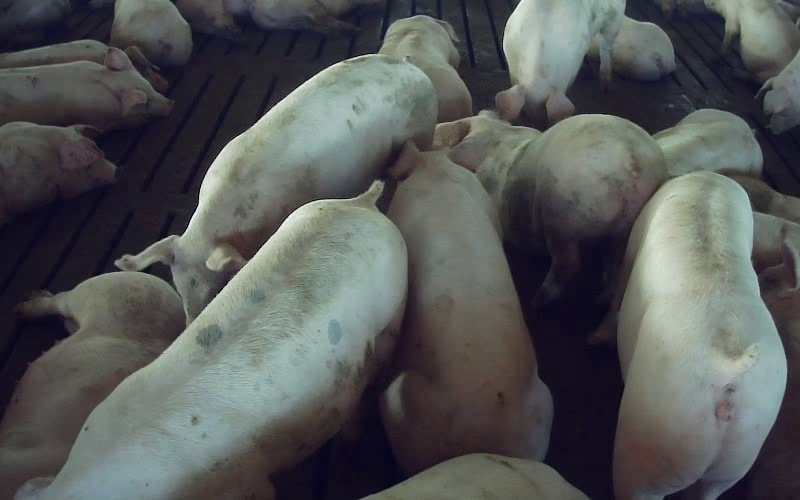pig: (18, 181, 406, 499), (116, 54, 437, 320), (598, 171, 785, 499), (381, 139, 551, 473), (433, 109, 668, 302), (0, 272, 184, 499), (0, 47, 172, 129), (379, 15, 470, 122), (705, 0, 799, 82), (653, 109, 762, 177), (111, 0, 192, 66)
